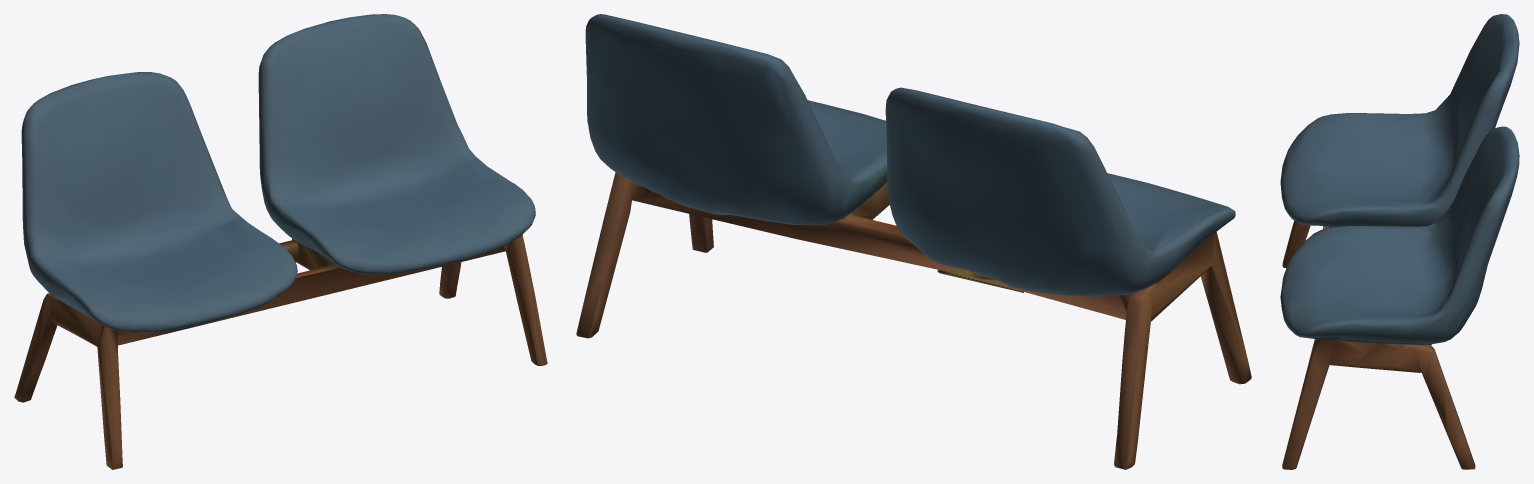
Rendered from Meshy_AI_Pair_of_blue_chairs_0610201619_texture.fbx.
3 renders of one model, left to right at view 1: azimuth 30°, elevation 25°; view 2: azimuth 150°, elevation 25°; view 3: azimuth 270°, elevation 25°, orthographic. The views are drawn at different scales.
Visible parts, largest first — view 1: Mesh_0; view 2: Mesh_0; view 3: Mesh_0.
Boxes of the visible parts, x1=… form: Mesh_0: x1=14, y1=14, x2=547, y2=469; Mesh_0: x1=576, y1=14, x2=1251, y2=469; Mesh_0: x1=1280, y1=14, x2=1519, y2=469.
Bounding box in the file's own units: 191 × 115 × 91.57.
Materials: 1 (1 with a texture image).
